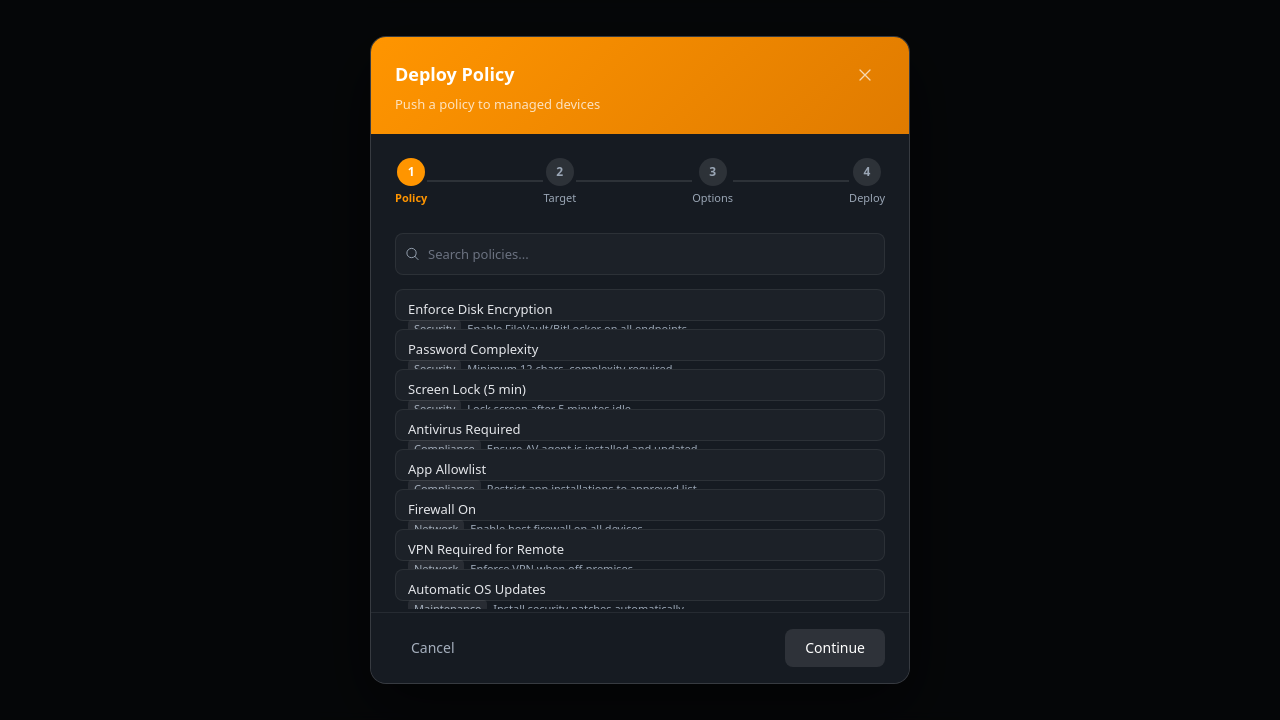
Test case: PolicyDeployWizard › policy search filters by category too
The image size is (1280, 720).
Type "Network" into the field with placeholder "Search policies..." at (640, 254), box x1=395 y1=233 x2=885 y2=275
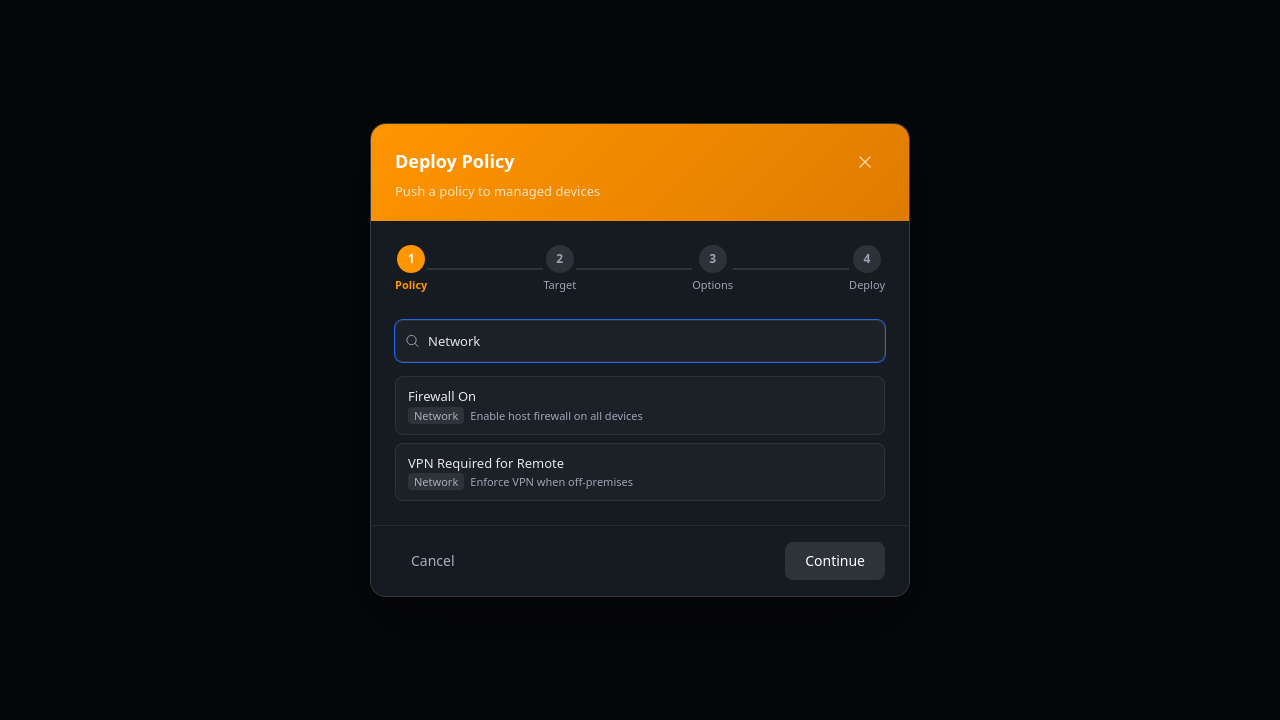
Expected: the text "Firewall On" is shown, x1=408 y1=387 x2=476 y2=405
Now the button "Password Complexity" is gone
